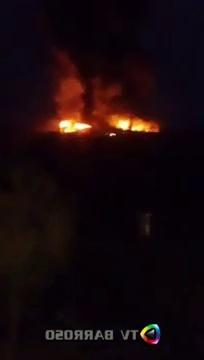fire: (114, 119, 157, 138), (63, 116, 89, 132)
